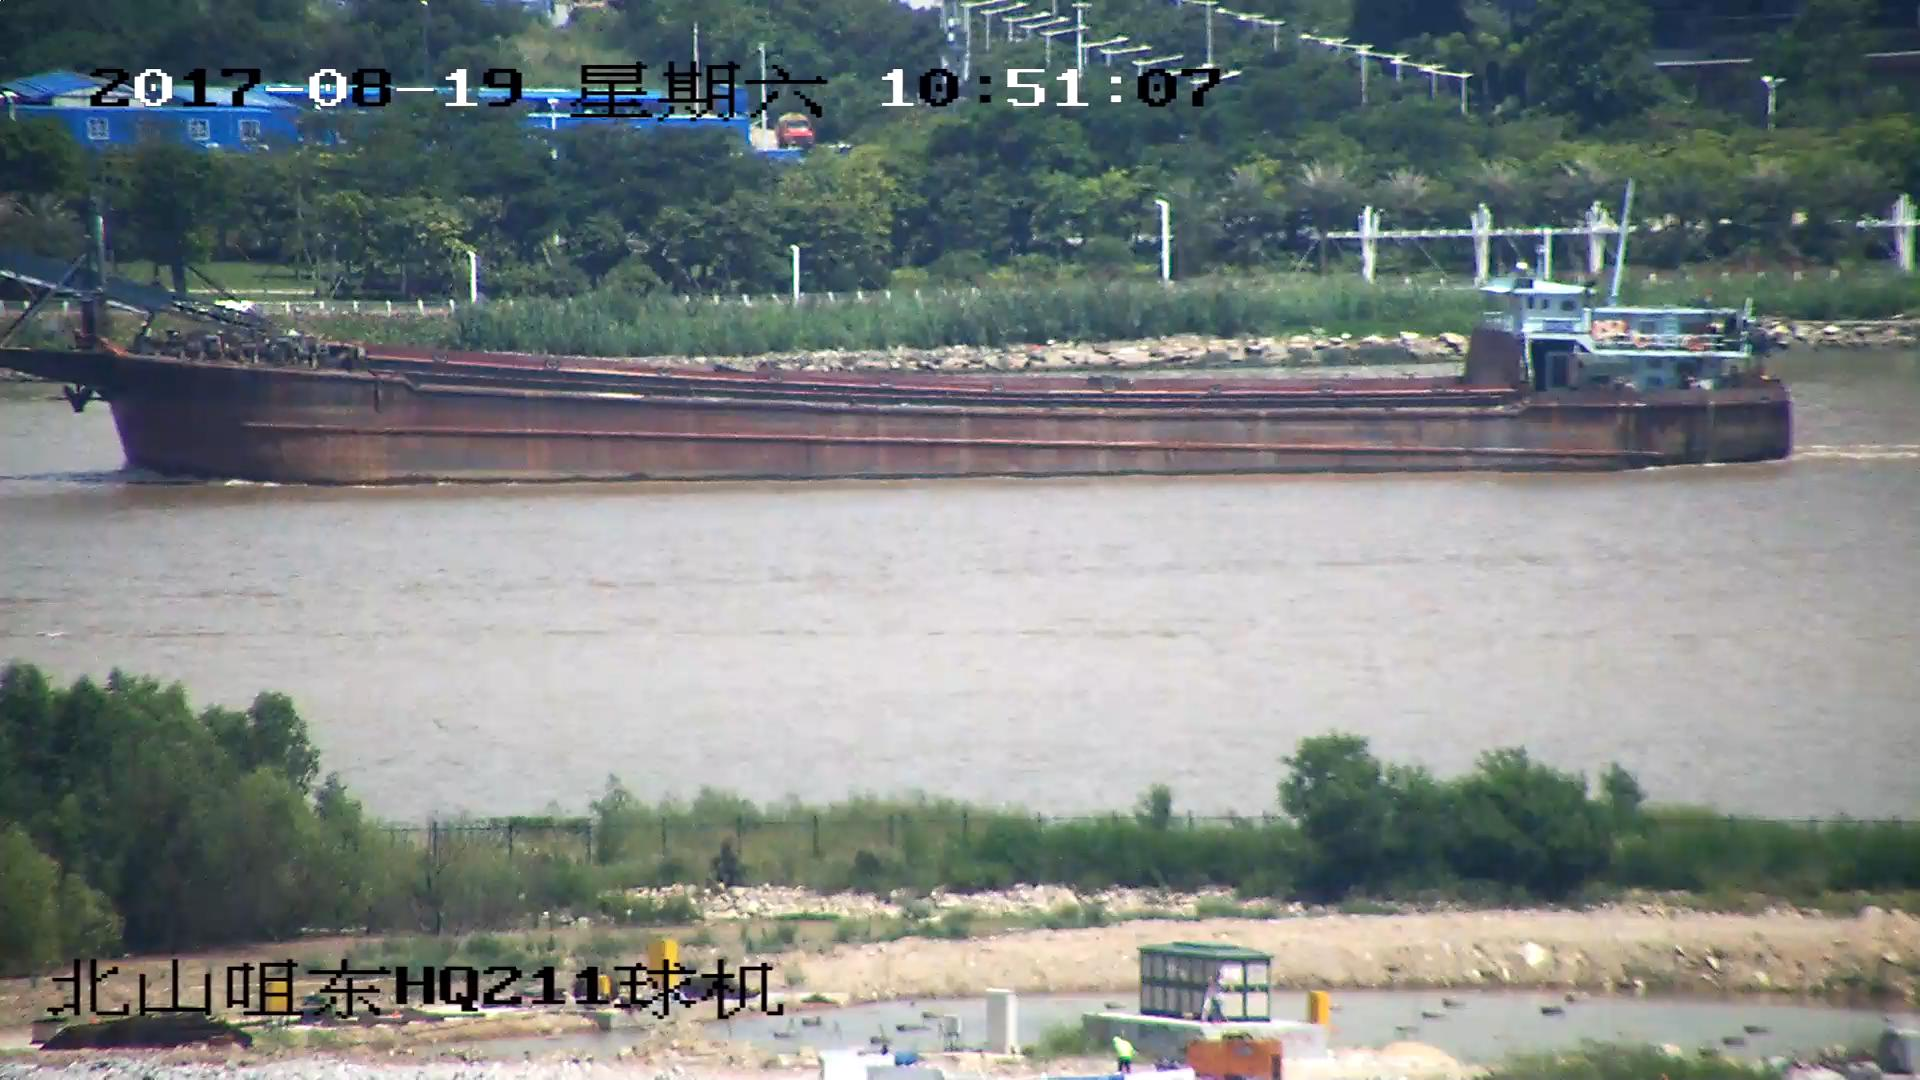bulk cargo carrier: (1, 228, 1797, 486)
